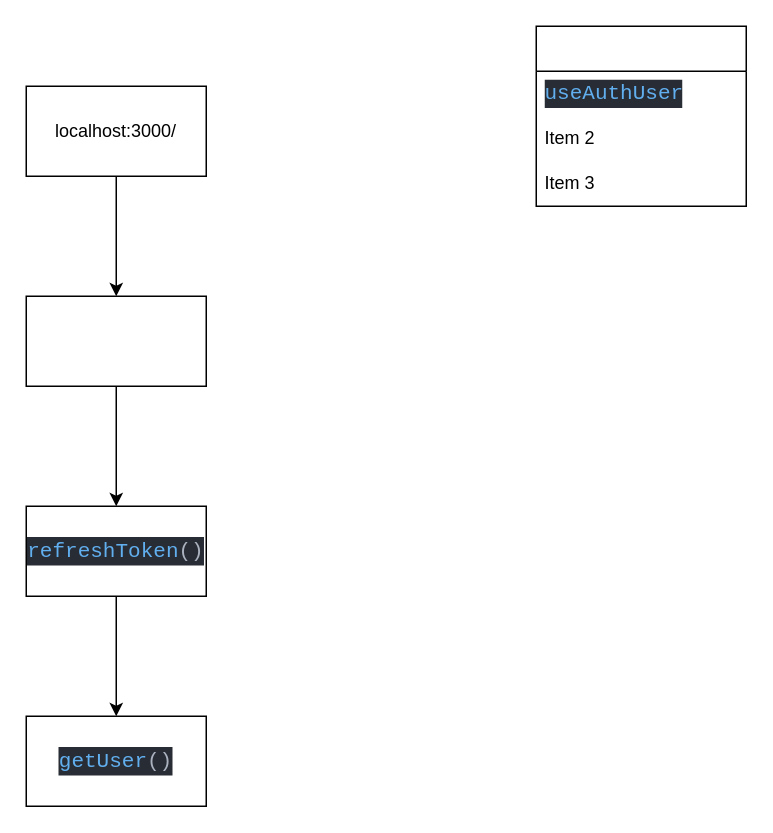
Image size: 773x833. Some labels were removed from this diagram. Here are the shapes that lost their labels. From the top down, the box of each, then its label:
(535, 25, 746, 206): state
(25, 295, 206, 386): initAuth ()
